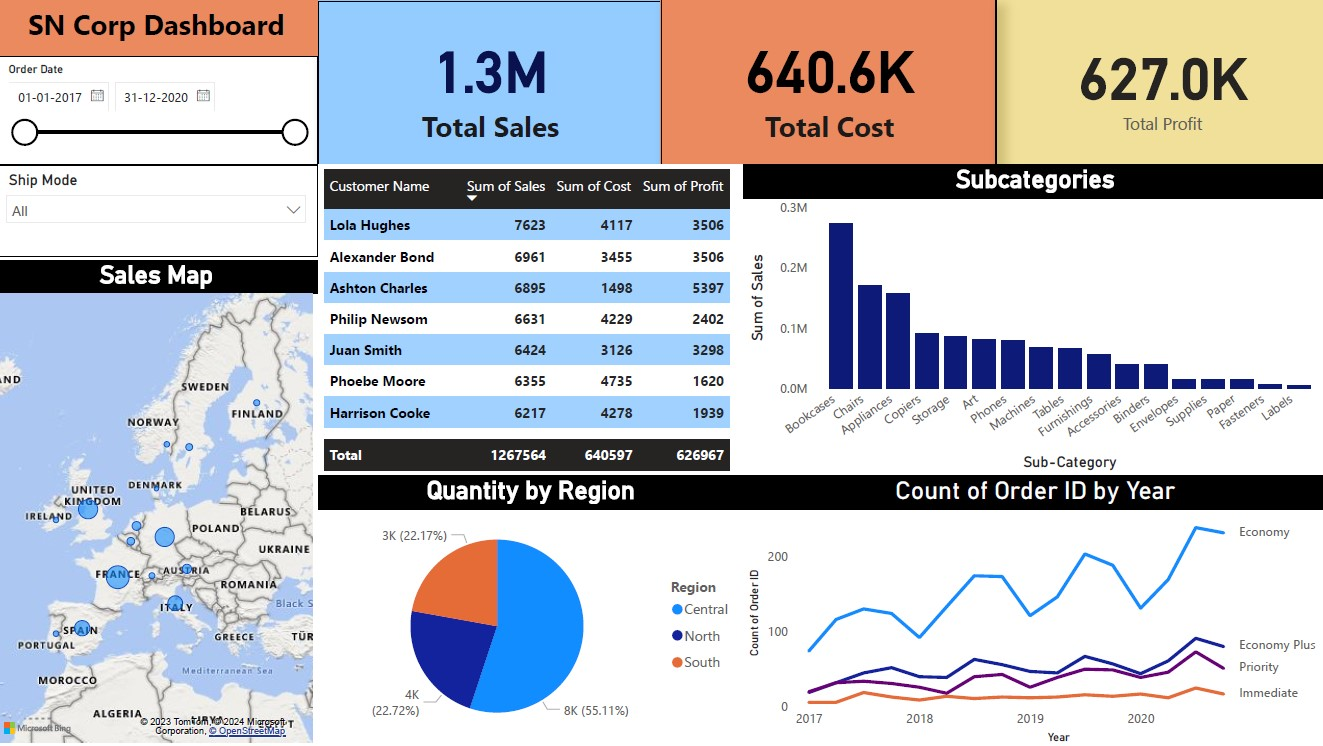

This screenshot's page, from the dashboard's own definition file:
{"tool":"powerbi","page":{"name":"Page 1","canvas":[1280,720],"ordinal":0},"visuals":[{"type":"card","fields":{"Values":["List of Orders.Sales"]},"box":[311.2,1.4,329.1,157.7],"z":0},{"type":"card","fields":{"Values":["List of Orders.Cost"]},"box":[640.3,0,322.2,159],"z":1000},{"type":"card","fields":{"Values":["List of Orders.Profit"]},"box":[962.5,0,318.1,159],"z":2000},{"type":"tableEx","fields":{"Values":["List of Orders.Customer Name","List of Orders.Sales","List of Orders.Cost","List of Orders.Profit"]},"box":[311.7,158.6,422.1,299.3],"z":3000},{"type":"clusteredColumnChart","title":"Subcategories","fields":{"Y":["List of Orders.Sales"],"Category":["List of Orders.Sub-Category"]},"box":[719.8,159,560.8,298.9],"z":4000},{"type":"lineChart","title":"Count of Order ID by Year","fields":{"Y":["List of Orders.Order ID"],"Category":["List of Orders.Order Date.Variation.Date Hierarchy.Year","List of Orders.Order Date.Variation.Date Hierarchy.Quarter"],"Series":["List of Orders.Ship Mode"]},"box":[719.8,457.9,560.8,261.9],"z":5000},{"type":"pieChart","title":"Quantity by Region","fields":{"Y":["List of Orders.Quantity"],"Category":["List of Orders.Region"]},"box":[311.2,457.9,408.6,261.9],"z":6000},{"type":"map","title":"Sales Map","fields":{"Category":["List of Orders.Country"],"Size":["List of Orders.Sales"]},"box":[0,251.4,311.4,468.6],"z":7000},{"type":"textbox","box":[0,0,311.2,54.8],"z":8000},{"type":"slicer","fields":{"Values":["List of Orders.Ship Mode"]},"box":[0,159,311.2,89.1],"z":9000},{"type":"slicer","fields":{"Values":["List of Orders.Order Date"]},"box":[0,54.8,311.2,104.2],"z":10000}]}

Visuals, with their boxes in screenshot pixels (x1, y1, x2, y2), scaled from the page's 1280x720 canvas onto the 1323x746 screenshot:
card - List of Orders.Sales: 322:1:662:165
card - List of Orders.Cost: 662:0:995:165
card - List of Orders.Profit: 995:0:1322:165
tableEx - List of Orders.Customer Name x List of Orders.Sales: 322:164:758:474
"Subcategories" clusteredColumnChart: 744:165:1322:474
"Count of Order ID by Year" lineChart: 744:474:1322:745
"Quantity by Region" pieChart: 322:474:744:745
"Sales Map" map: 0:260:322:745
textbox: 0:0:322:57
slicer - List of Orders.Ship Mode: 0:165:322:257
slicer - List of Orders.Order Date: 0:57:322:165
